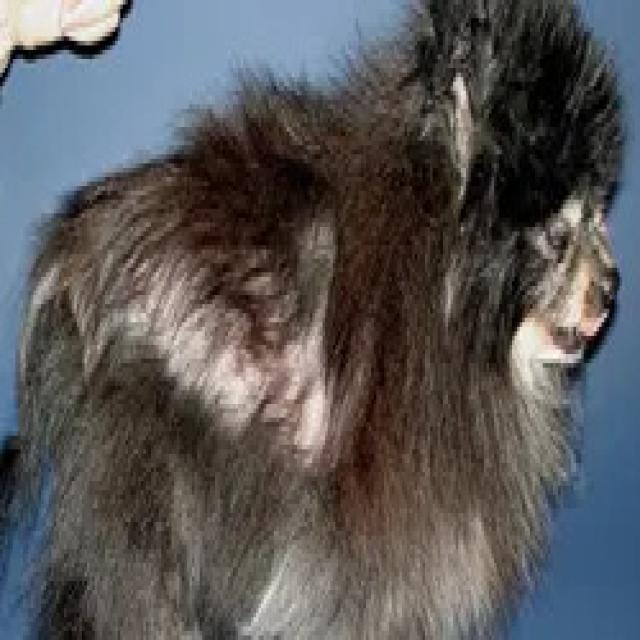cat-hairloss: (110, 232, 320, 442)
